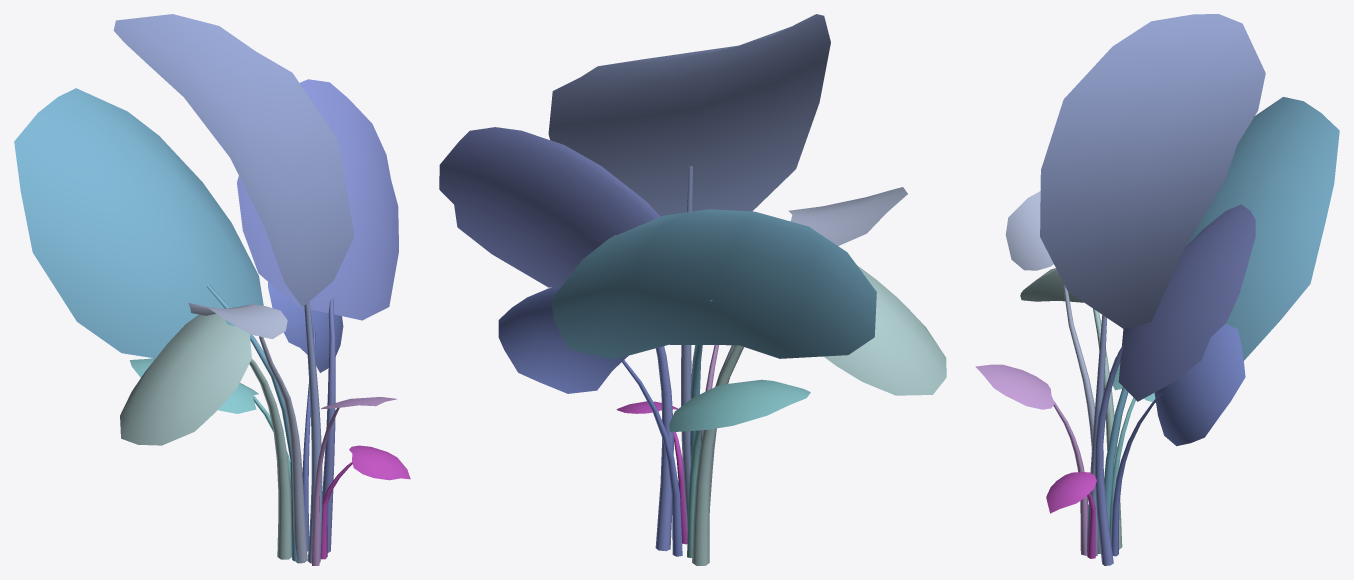
3 views of the same model, side by side, from view 1: azimuth 30°, elevation 25°; view 2: azimuth 150°, elevation 25°; view 3: azimuth 270°, elevation 25° (orthographic). The views are drawn at different scales.
Parts seen in each view (by area): view 1: SM_BS_Monstera_200cm_HD; view 2: SM_BS_Monstera_200cm_HD; view 3: SM_BS_Monstera_200cm_HD.
Boxes of the visible parts, x1,y1,x2,y2 form: SM_BS_Monstera_200cm_HD: (14,14,410,565); SM_BS_Monstera_200cm_HD: (439,14,946,565); SM_BS_Monstera_200cm_HD: (975,14,1339,565).
Bounding box in the file's own units: 47.65 × 51.03 × 69.44.
